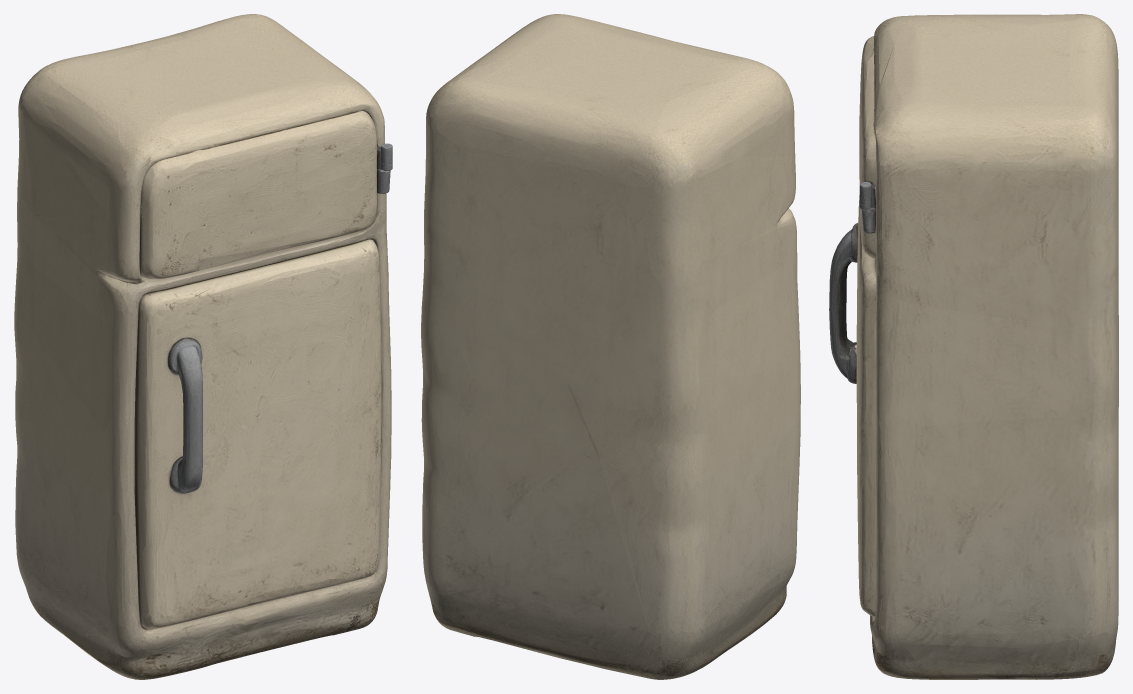
File: frigo.glb
3 views of the same model, side by side, from view 1: azimuth 30°, elevation 25°; view 2: azimuth 150°, elevation 25°; view 3: azimuth 270°, elevation 25° (orthographic). The views are drawn at different scales.
Visible parts, largest first — view 1: Mesh_0; view 2: Mesh_0; view 3: Mesh_0.
Boxes of the visible parts, bbox=[...] form: Mesh_0: bbox=[14, 14, 392, 679]; Mesh_0: bbox=[421, 14, 800, 679]; Mesh_0: bbox=[829, 14, 1118, 679].
Size of the model in its own units: 1.02 by 1.9 by 0.8997.
Materials: 1 (1 with a texture image).
